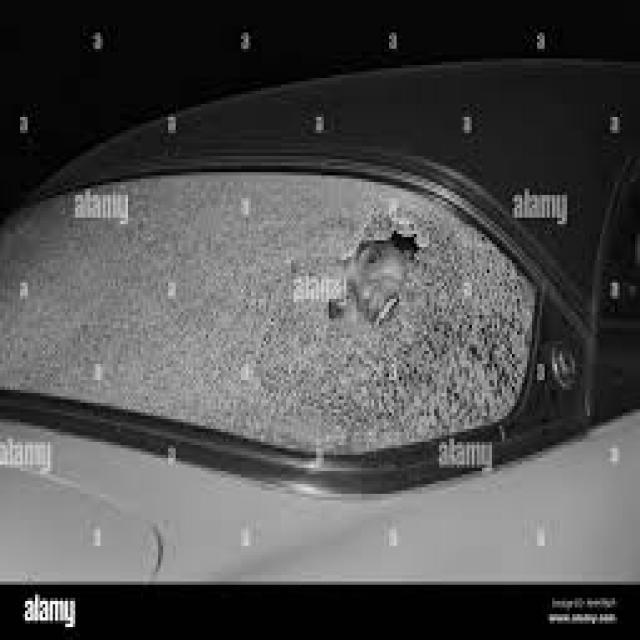damaged-rear-window: (0, 156, 542, 460)
